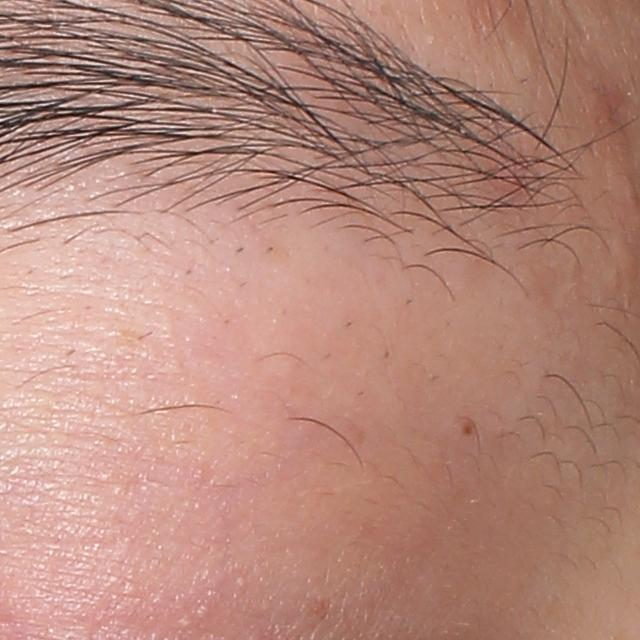nevus: (459, 421, 478, 439)
